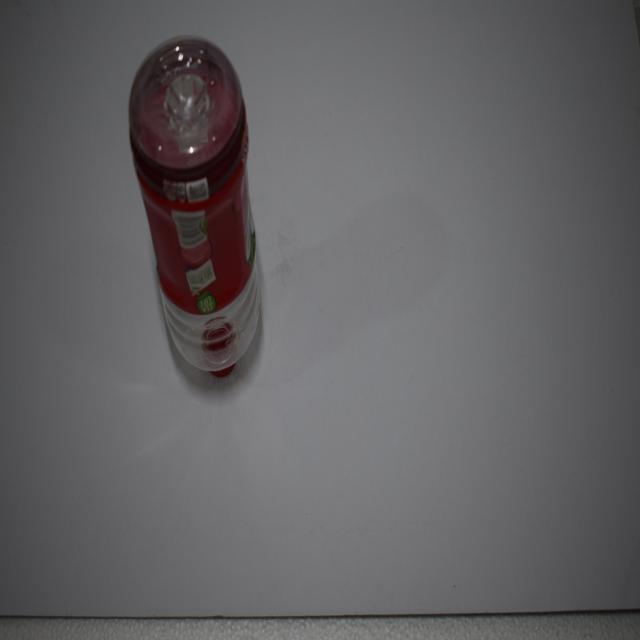bottle: (111, 16, 286, 406)
